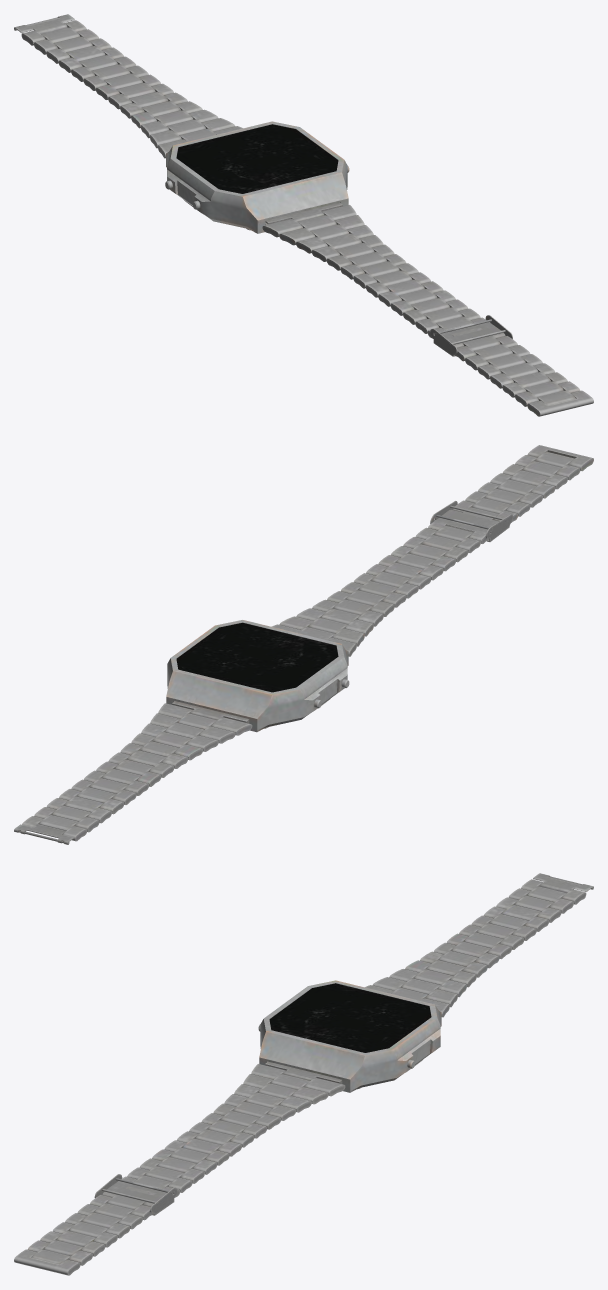
Rendered from digital_wrist_watch.glb.
3 renders of one model, top to bottom at view 1: azimuth 30°, elevation 25°; view 2: azimuth 150°, elevation 25°; view 3: azimuth 330°, elevation 25°, orthographic.
Visible parts, largest first — view 1: digital_wrist_watch_strap_b, digital_wrist_watch, digital_wrist_watch_strap_a, digital_wrist_watch_clasp; view 2: digital_wrist_watch_strap_b, digital_wrist_watch, digital_wrist_watch_strap_a, digital_wrist_watch_clasp; view 3: digital_wrist_watch_strap_b, digital_wrist_watch, digital_wrist_watch_strap_a, digital_wrist_watch_clasp.
Boxes of the visible parts, <box> form: digital_wrist_watch_strap_b: <box>262,202,593,416</box>; digital_wrist_watch: <box>165,121,349,233</box>; digital_wrist_watch_strap_a: <box>21,20,242,158</box>; digital_wrist_watch_clasp: <box>14,14,74,33</box>; digital_wrist_watch_strap_b: <box>271,445,593,656</box>; digital_wrist_watch: <box>166,620,349,732</box>; digital_wrist_watch_strap_a: <box>22,701,252,841</box>; digital_wrist_watch_clasp: <box>14,824,74,844</box>; digital_wrist_watch_strap_b: <box>14,1061,345,1275</box>; digital_wrist_watch: <box>258,980,441,1092</box>; digital_wrist_watch_strap_a: <box>365,879,586,1017</box>; digital_wrist_watch_clasp: <box>533,873,593,892</box>.
Bounding box in the file's own units: 0.0365 × 0.00835 × 0.2172.
2 materials, 2 textured.
